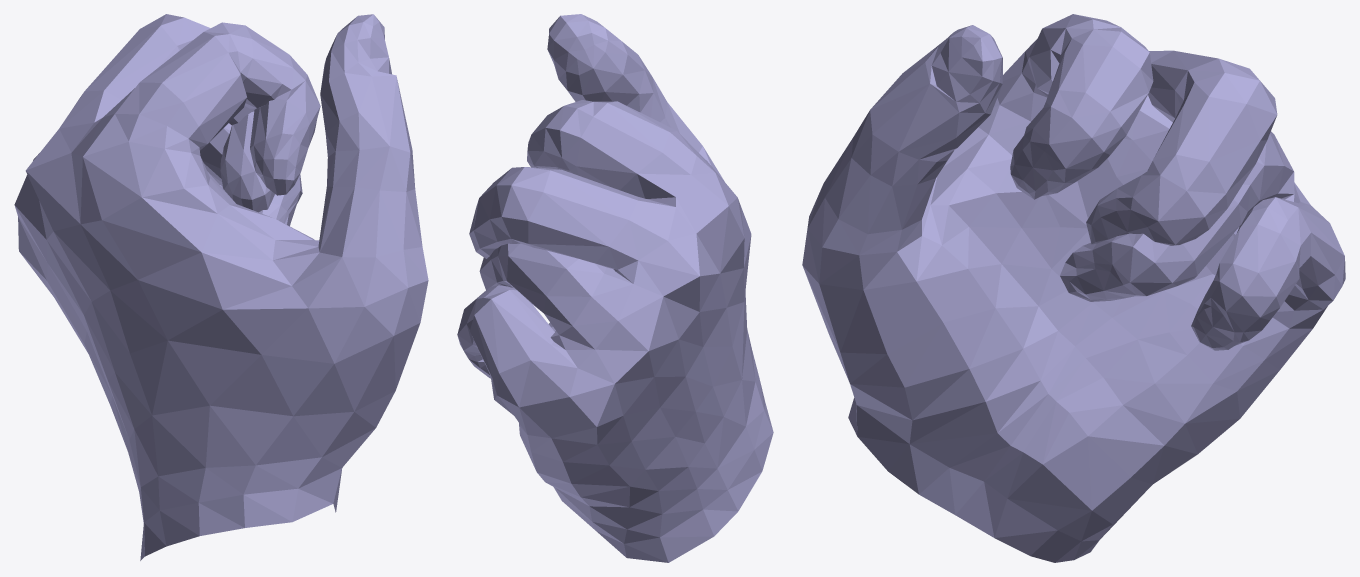
Rendered from frame_0067_source_000067_hand.glb.
3 views of the same model, side by side, from view 1: azimuth 30°, elevation 25°; view 2: azimuth 150°, elevation 25°; view 3: azimuth 270°, elevation 25° (orthographic). The views are drawn at different scales.
Parts seen in each view (by area): view 1: world; view 2: world; view 3: world.
Boxes of the visible parts, bbox=[...] form: world: bbox=[14, 14, 428, 560]; world: bbox=[457, 14, 773, 562]; world: bbox=[802, 14, 1345, 562].
Size of the model in its own units: 0.0614 by 0.121 by 0.1025.
